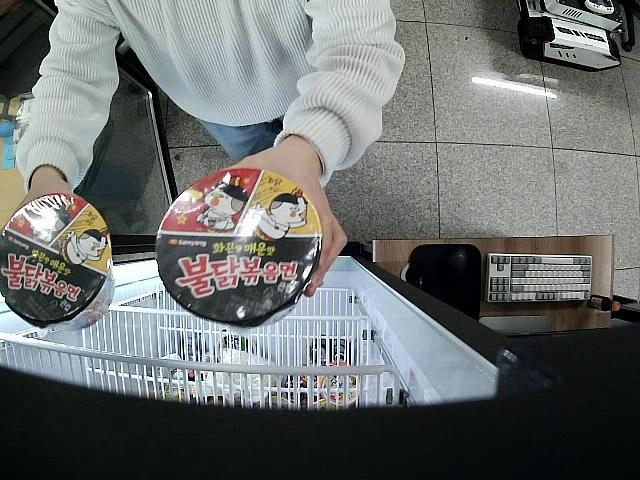00_hand: (223, 144, 347, 301)
07_buldak_L: (154, 167, 324, 330), (0, 193, 116, 334)
